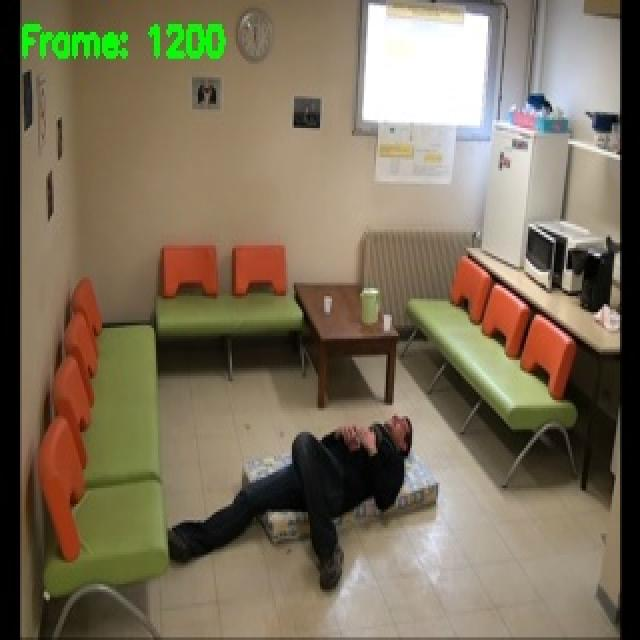Fall-Detected: (166, 411, 417, 590)
